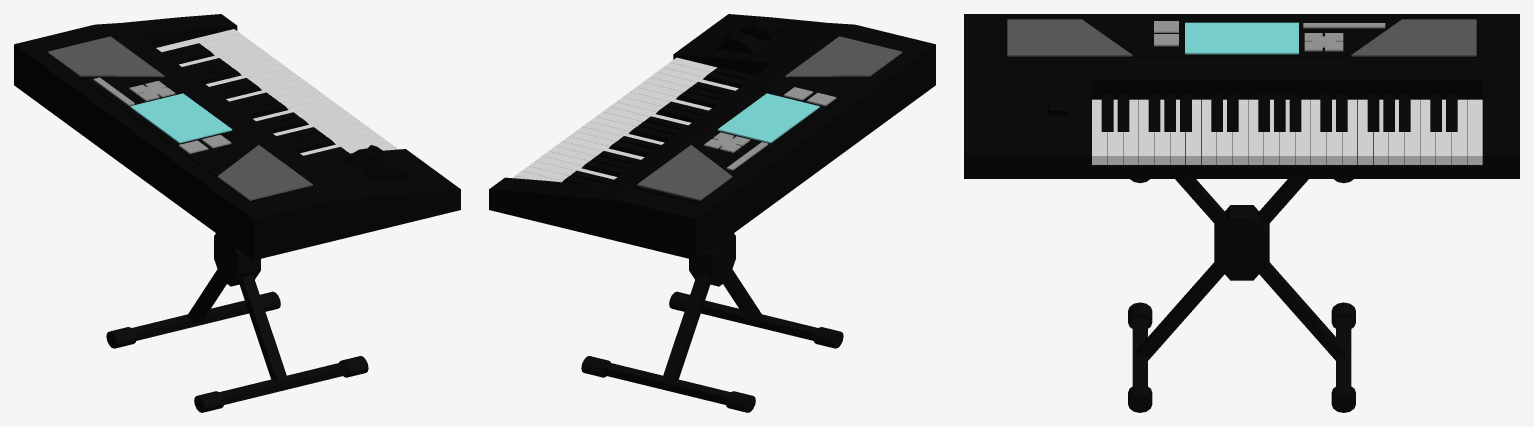
File: keyboard.gltf
3 renders of one model, left to right at view 1: azimuth 30°, elevation 25°; view 2: azimuth 150°, elevation 25°; view 3: azimuth 270°, elevation 25°, orthographic. The views are drawn at different scales.
Parts seen in each view (by area): view 1: keyboard, key white, Cube.001, keyboard top func, piano bottom bar, Cube.002, piano bottom x, piano bottom bar2, piano bottom main, black 3key.001, black 3key, black 3key.002 (+6 smaller); view 2: keyboard, key white, Cube.001, keyboard top func, piano bottom bar, Cube.002, piano bottom x, piano bottom bar2, piano bottom main, black 3key.001, black 3key.002, black 3key (+7 smaller); view 3: keyboard, key white, Cube.001, piano bottom x, keyboard top func, Cube.002, piano bottom main, piano bottom bar2, piano bottom bar, black 3key, black 3key.001, black 3key.002 (+7 smaller).
Boxes of the visible parts, bbox=[...] form: keyboard: bbox=[14, 14, 460, 260]; key white: bbox=[156, 29, 398, 155]; Cube.001: bbox=[47, 36, 312, 200]; keyboard top func: bbox=[45, 36, 312, 202]; piano bottom bar: bbox=[131, 300, 346, 404]; Cube.002: bbox=[130, 93, 232, 143]; piano bottom x: bbox=[187, 269, 287, 381]; piano bottom bar2: bbox=[106, 291, 368, 412]; piano bottom main: bbox=[214, 233, 260, 286]; black 3key.001: bbox=[229, 92, 288, 118]; black 3key: bbox=[276, 127, 335, 153]; black 3key.002: bbox=[182, 58, 241, 84]; keyboard: bbox=[489, 14, 935, 260]; key white: bbox=[512, 57, 738, 182]; Cube.001: bbox=[637, 36, 902, 200]; keyboard top func: bbox=[634, 53, 902, 203]; piano bottom bar: bbox=[603, 300, 818, 404]; Cube.002: bbox=[717, 93, 819, 143]; piano bottom x: bbox=[662, 269, 762, 381]; piano bottom bar2: bbox=[581, 291, 843, 412]; piano bottom main: bbox=[689, 233, 735, 286]; black 3key.001: bbox=[628, 116, 687, 142]; black 3key.002: bbox=[581, 151, 640, 176]; black 3key: bbox=[676, 82, 734, 107]; keyboard: bbox=[964, 14, 1519, 178]; key white: bbox=[1092, 99, 1482, 164]; Cube.001: bbox=[1007, 19, 1476, 56]; piano bottom x: bbox=[1137, 179, 1346, 360]; keyboard top func: bbox=[1007, 21, 1481, 57]; Cube.002: bbox=[1185, 22, 1298, 54]; piano bottom main: bbox=[1214, 205, 1269, 280]; piano bottom bar2: bbox=[1128, 179, 1355, 412]; piano bottom bar: bbox=[1132, 317, 1351, 386]; black 3key: bbox=[1148, 94, 1191, 131]; black 3key.001: bbox=[1258, 94, 1301, 131]; black 3key.002: bbox=[1367, 94, 1410, 131].
Size of the model in its own units: 1.31 by 1.55 by 2.63.
